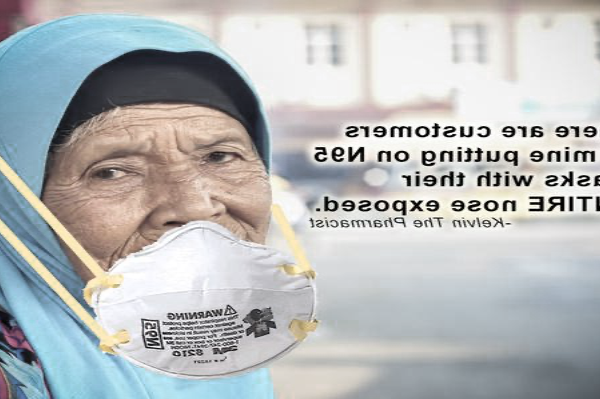mask_weared_incorrect: (51, 128, 274, 307)
